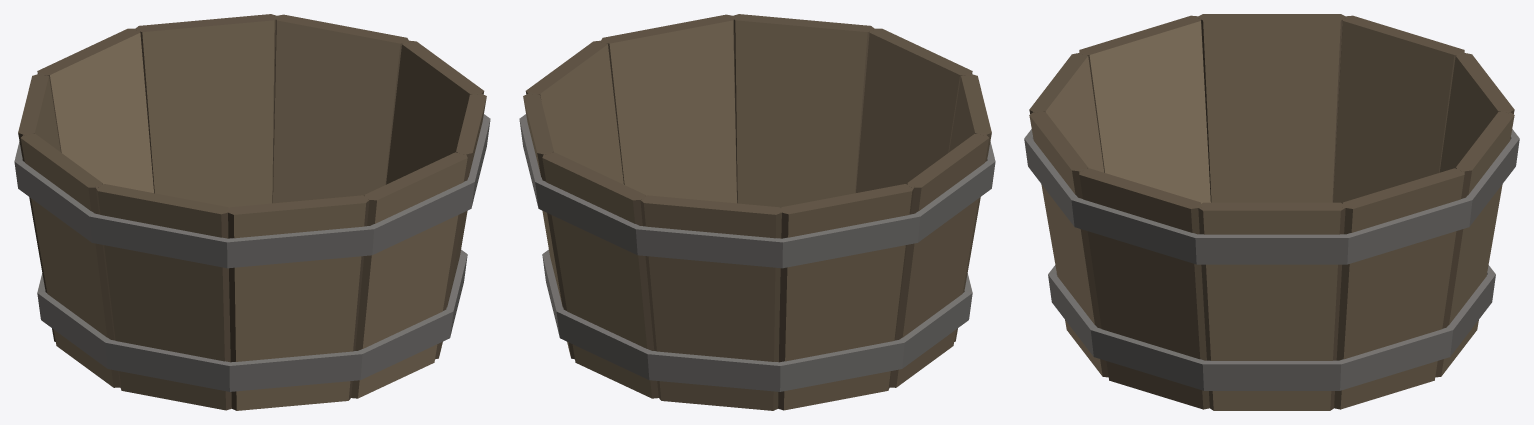
The model's file is SM_Props_Farm_Bucket_Wood_02.fbx.
The picture shows the model from 3 angles, left to right: view 1: azimuth 30°, elevation 25°; view 2: azimuth 150°, elevation 25°; view 3: azimuth 270°, elevation 25°; orthographic projection.
Visible parts, largest first — view 1: SM_Props_Farm_Bucket_Wood_02; view 2: SM_Props_Farm_Bucket_Wood_02; view 3: SM_Props_Farm_Bucket_Wood_02.
Part boxes in pixels (bbox=[...]): SM_Props_Farm_Bucket_Wood_02: bbox=[14, 14, 490, 410]; SM_Props_Farm_Bucket_Wood_02: bbox=[519, 14, 995, 410]; SM_Props_Farm_Bucket_Wood_02: bbox=[1024, 14, 1519, 410].
Size of the model in its own units: 95.04 by 48.08 by 99.93.
